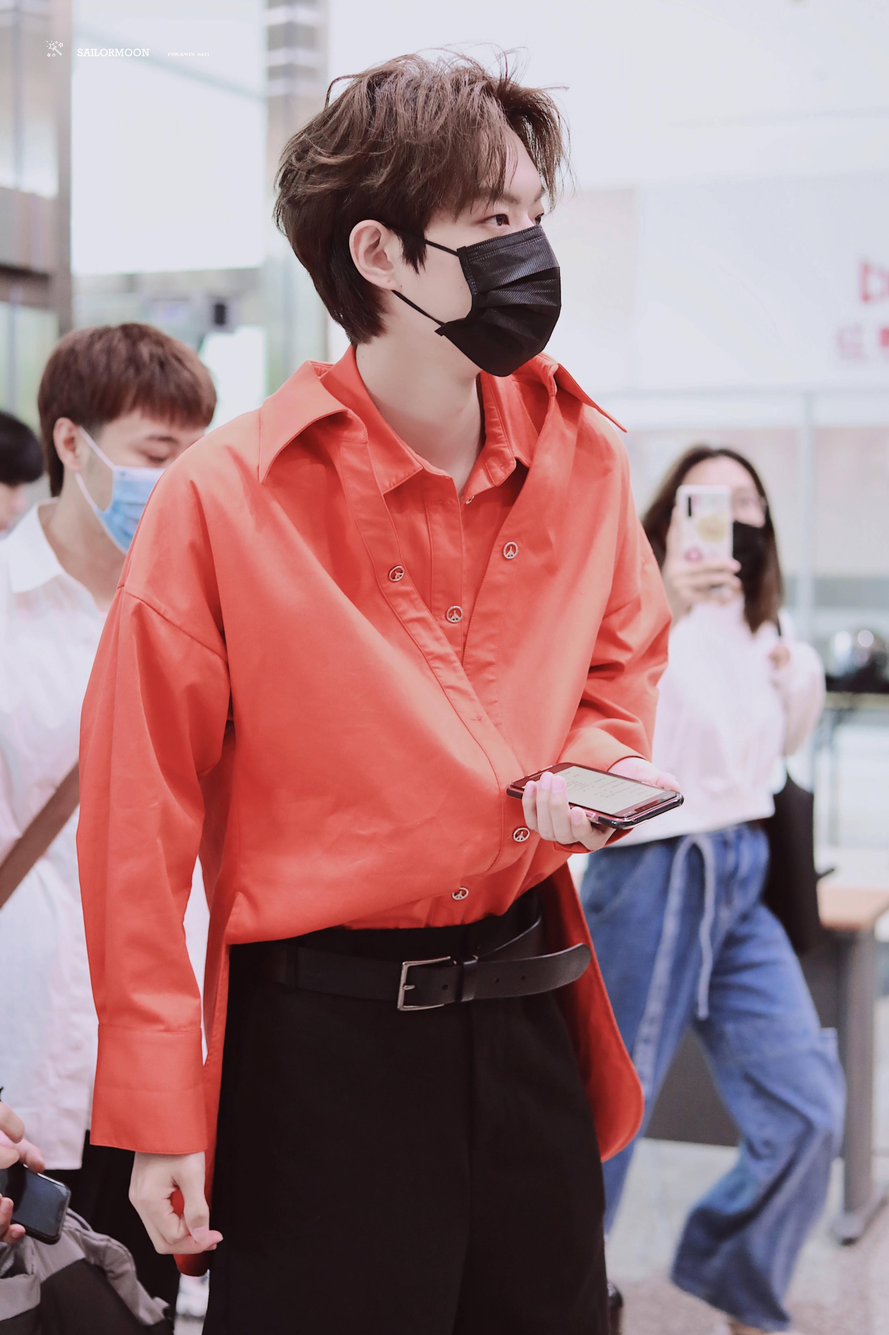OK: (439, 175, 561, 376), (91, 420, 202, 562), (690, 481, 772, 561)
